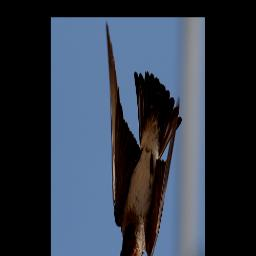Swallow: (106, 20, 181, 256)
